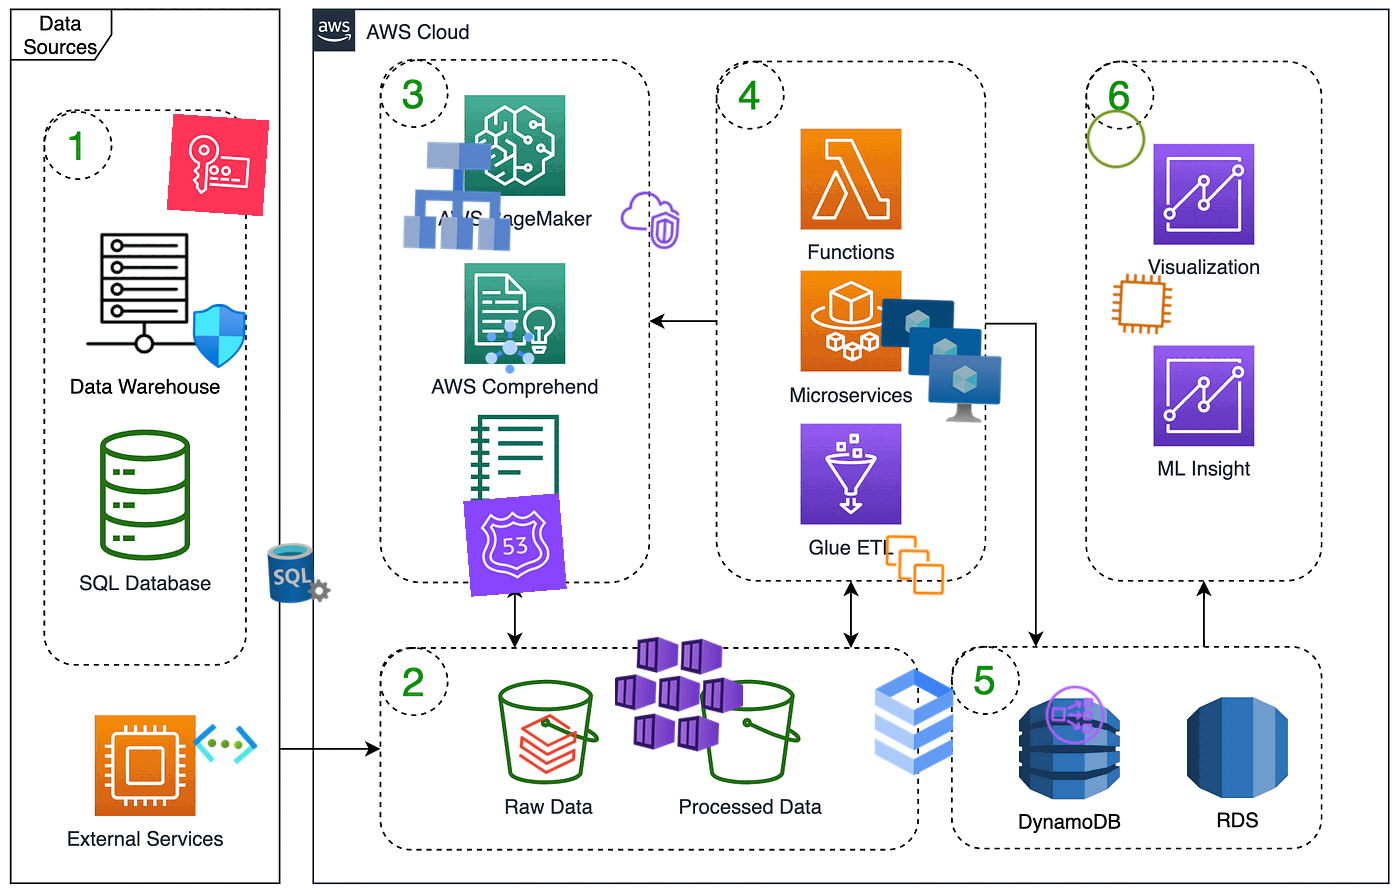aws_amazon_route_53: (463, 493, 567, 597)
aws_ec2_instance: (1108, 270, 1176, 338)
aws_ec2_instances: (882, 532, 948, 598)
aws_elastic_load_balancing_network_load_balancer: (1041, 681, 1109, 749)
aws_key_management_service: (166, 113, 270, 217)
aws_simple_storage_service_object: (1082, 105, 1150, 173)
aws_vpc_virtual_private_cloud_vpc: (615, 185, 685, 255)
azure_databricks: (513, 709, 583, 779)
azure_kubernetes_services: (612, 626, 746, 760)
azure_network_security_groups: (186, 303, 252, 369)
azure_sql_server: (265, 539, 333, 607)
azure_virtual_networks: (190, 709, 260, 779)
azure_vm_scale_sets: (873, 292, 1005, 424)
gcp_cloud_load_balancing: (392, 130, 524, 262)
gcp_cloud_sql: (849, 657, 979, 787)
gcp_pubsub: (477, 314, 543, 380)
